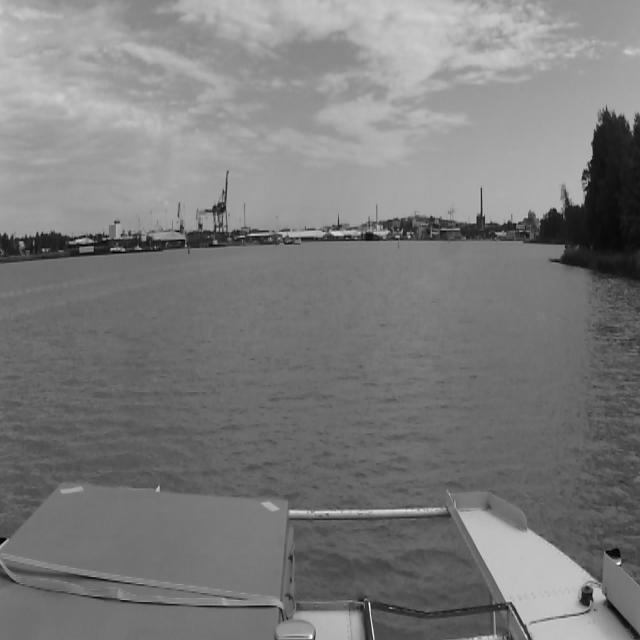buoy: (396, 237, 400, 250)
